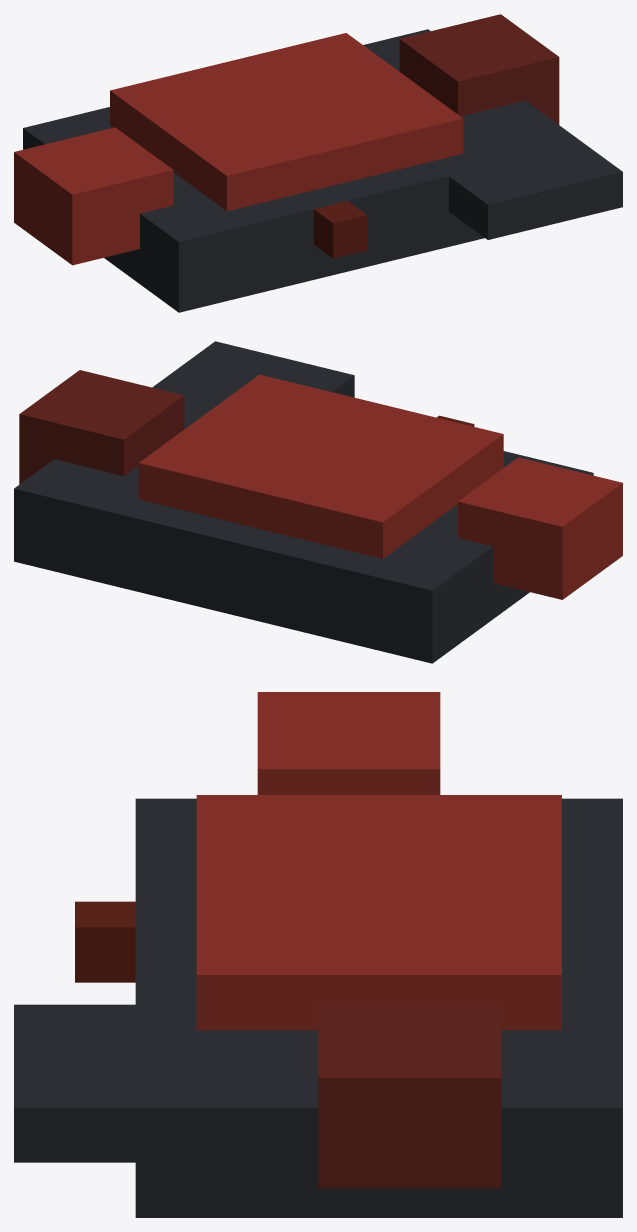
The model's file is mech_boss_destroyed.glb.
3 renders of one model, top to bottom at view 1: azimuth 30°, elevation 25°; view 2: azimuth 150°, elevation 25°; view 3: azimuth 270°, elevation 25°, orthographic. The views are drawn at different scales.
Parts seen in each view (by area): view 1: Wreck mesh, Ember mesh; view 2: Wreck mesh; view 3: Wreck mesh, Ember mesh.
Part boxes in pixels (x1,y1,x2,y2): Wreck mesh: [14, 14, 622, 312]; Ember mesh: [314, 201, 367, 258]; Wreck mesh: [14, 341, 622, 663]; Wreck mesh: [14, 692, 622, 1217]; Ember mesh: [75, 901, 135, 982].
Bounding box in the file's own units: 15 × 3 × 10.
Materials: 1 (1 with a texture image).
